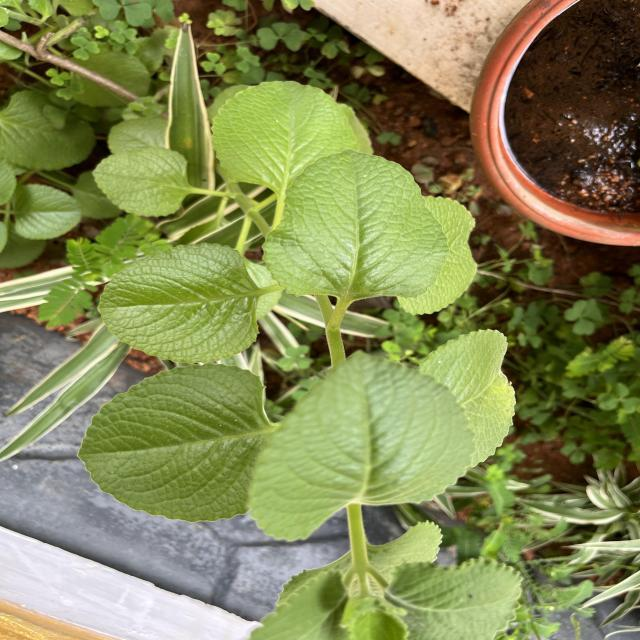Plectranthus barbatus: (247, 348, 477, 542), (74, 362, 268, 524), (260, 148, 450, 302), (96, 242, 260, 364), (210, 80, 358, 188), (420, 327, 518, 468), (0, 90, 97, 173), (91, 146, 190, 218), (12, 183, 84, 241)
